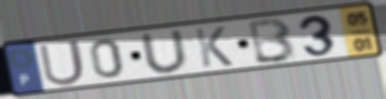0: (87, 37, 129, 81)
3: (297, 12, 344, 59)
B: (247, 16, 298, 66)
K: (192, 25, 236, 69)
U: (36, 37, 88, 87), (137, 28, 192, 75)
